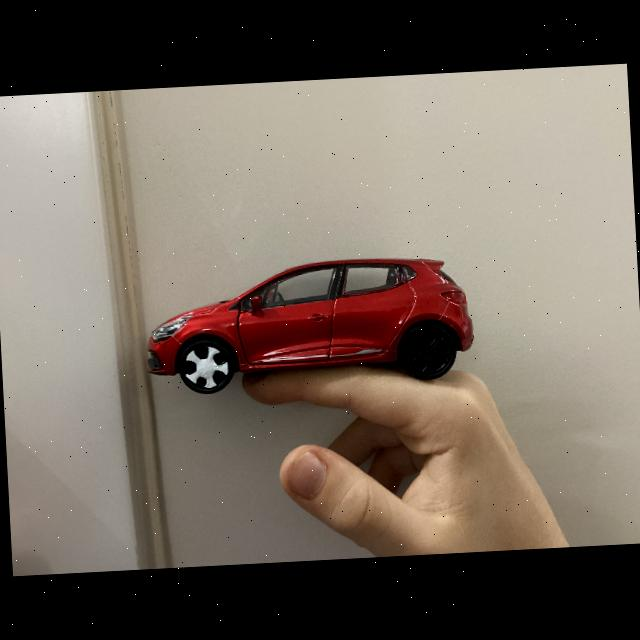Dogru_Jant: (406, 329, 452, 374)
Yanlis_Jant: (183, 344, 230, 390)
